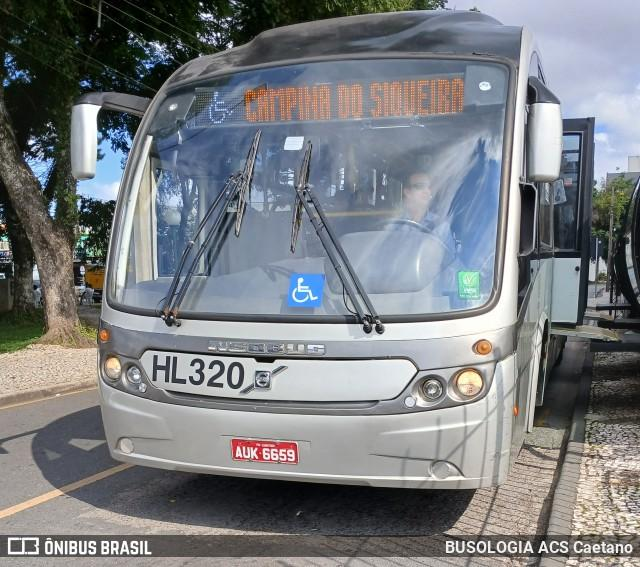CAMPINA DO SIQUEIRA: (238, 73, 469, 127)
